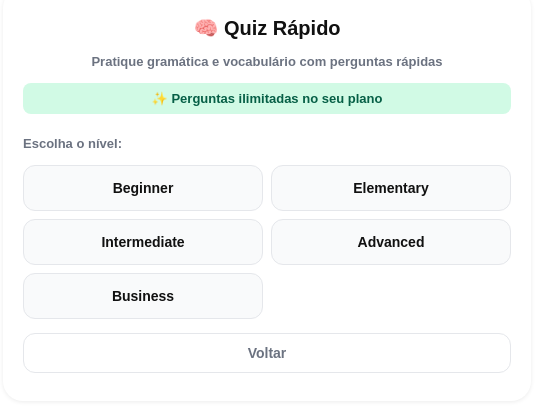
Test: QuizView › selecting a level and starting changes to the quiz stage
What coordinates should you click on to do the following:
click the button with class "level-btn" showing "Beginner"
I would click on:
 (143, 188)
Its box is [23,165,263,211].
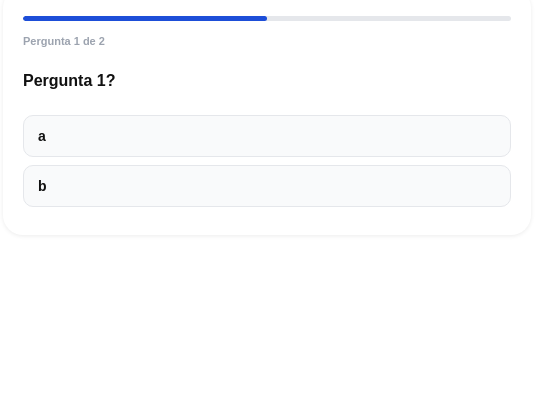
expect the text "Pergunta 1?" is shown: met, box [23,72,116,89]
